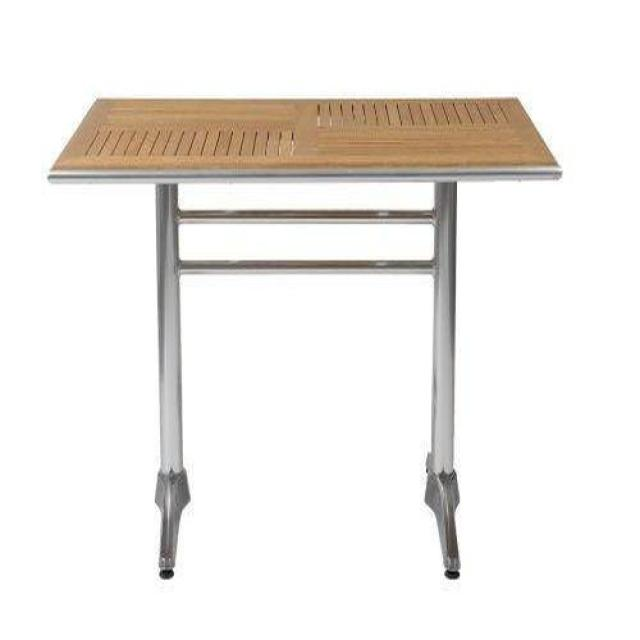table: (47, 99, 563, 582)
